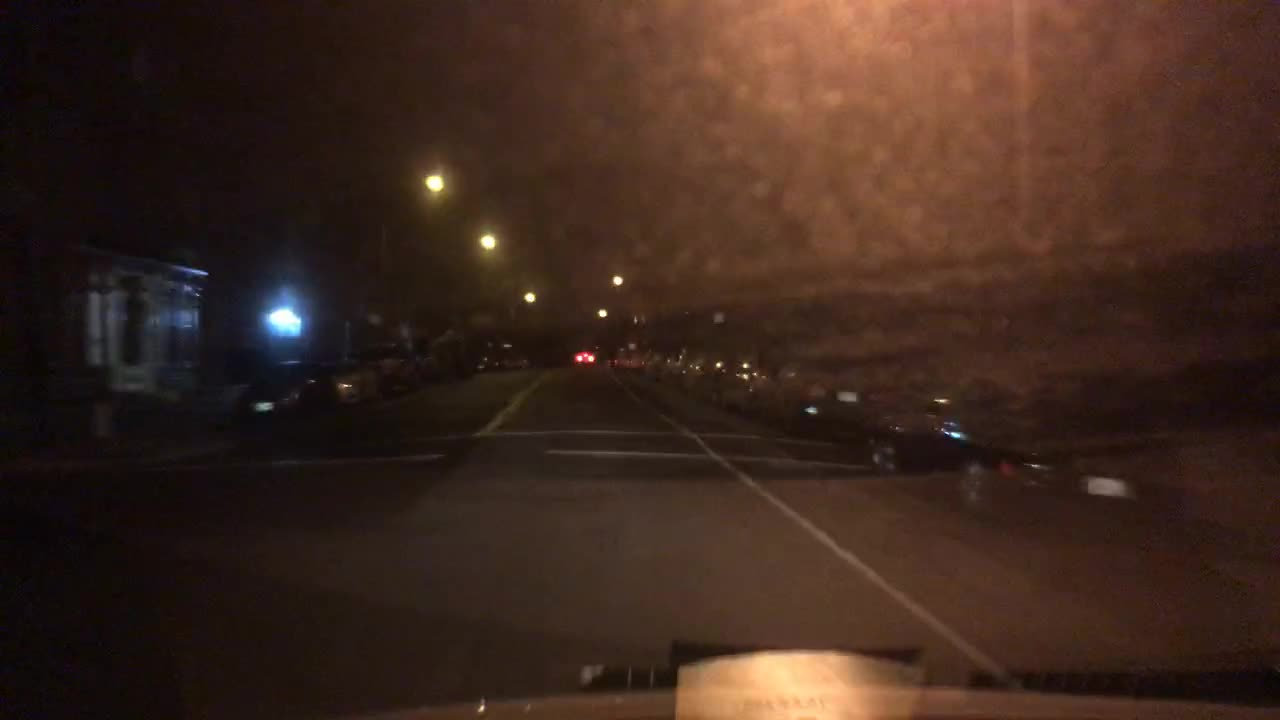car: (864, 371, 1189, 543), (769, 354, 890, 431), (232, 359, 333, 435), (721, 344, 788, 413), (355, 345, 424, 391), (318, 361, 381, 405), (690, 346, 726, 401), (671, 343, 693, 388), (414, 348, 439, 380), (658, 348, 677, 381), (568, 346, 596, 368), (646, 343, 663, 379), (471, 346, 496, 370), (501, 345, 529, 366), (631, 343, 651, 370), (613, 346, 631, 369)
